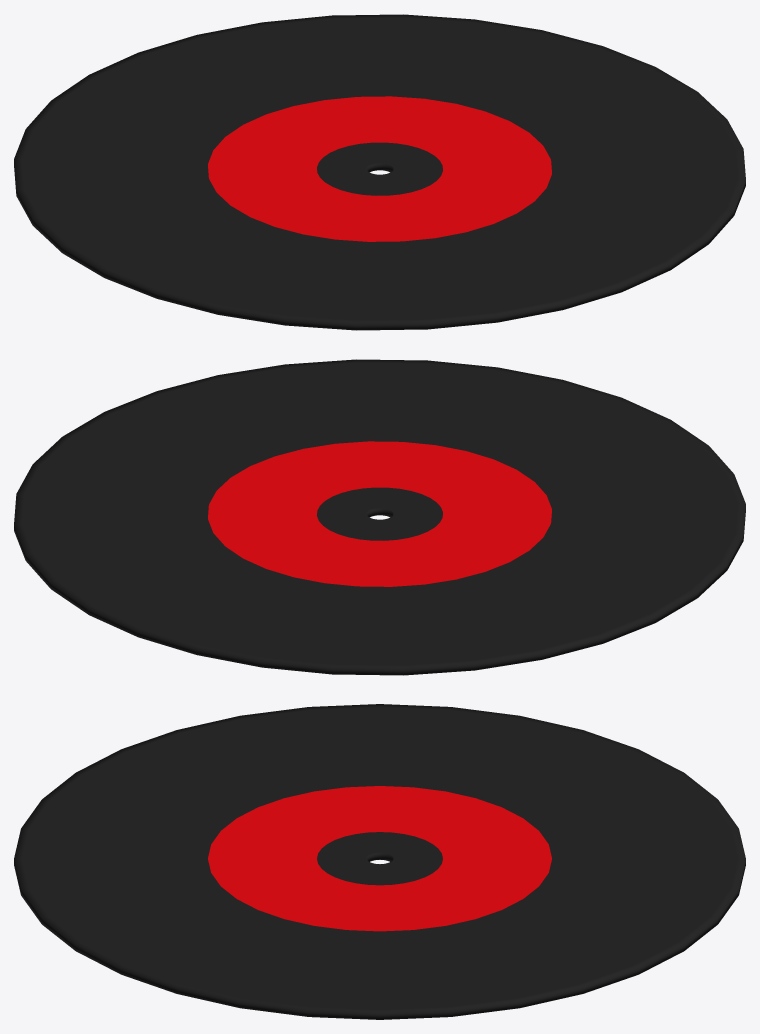
Rendered from vinyl.fbx.
3 renders of one model, top to bottom at view 1: azimuth 30°, elevation 25°; view 2: azimuth 150°, elevation 25°; view 3: azimuth 270°, elevation 25°, orthographic.
Parts seen in each view (by area): view 1: Cylinder; view 2: Cylinder; view 3: Cylinder.
Boxes of the visible parts, x1,y1,x2,y2 form: Cylinder: [14, 14, 745, 330]; Cylinder: [14, 359, 745, 675]; Cylinder: [14, 704, 745, 1019].
Bounding box in the file's own units: 400 × 4 × 400.
